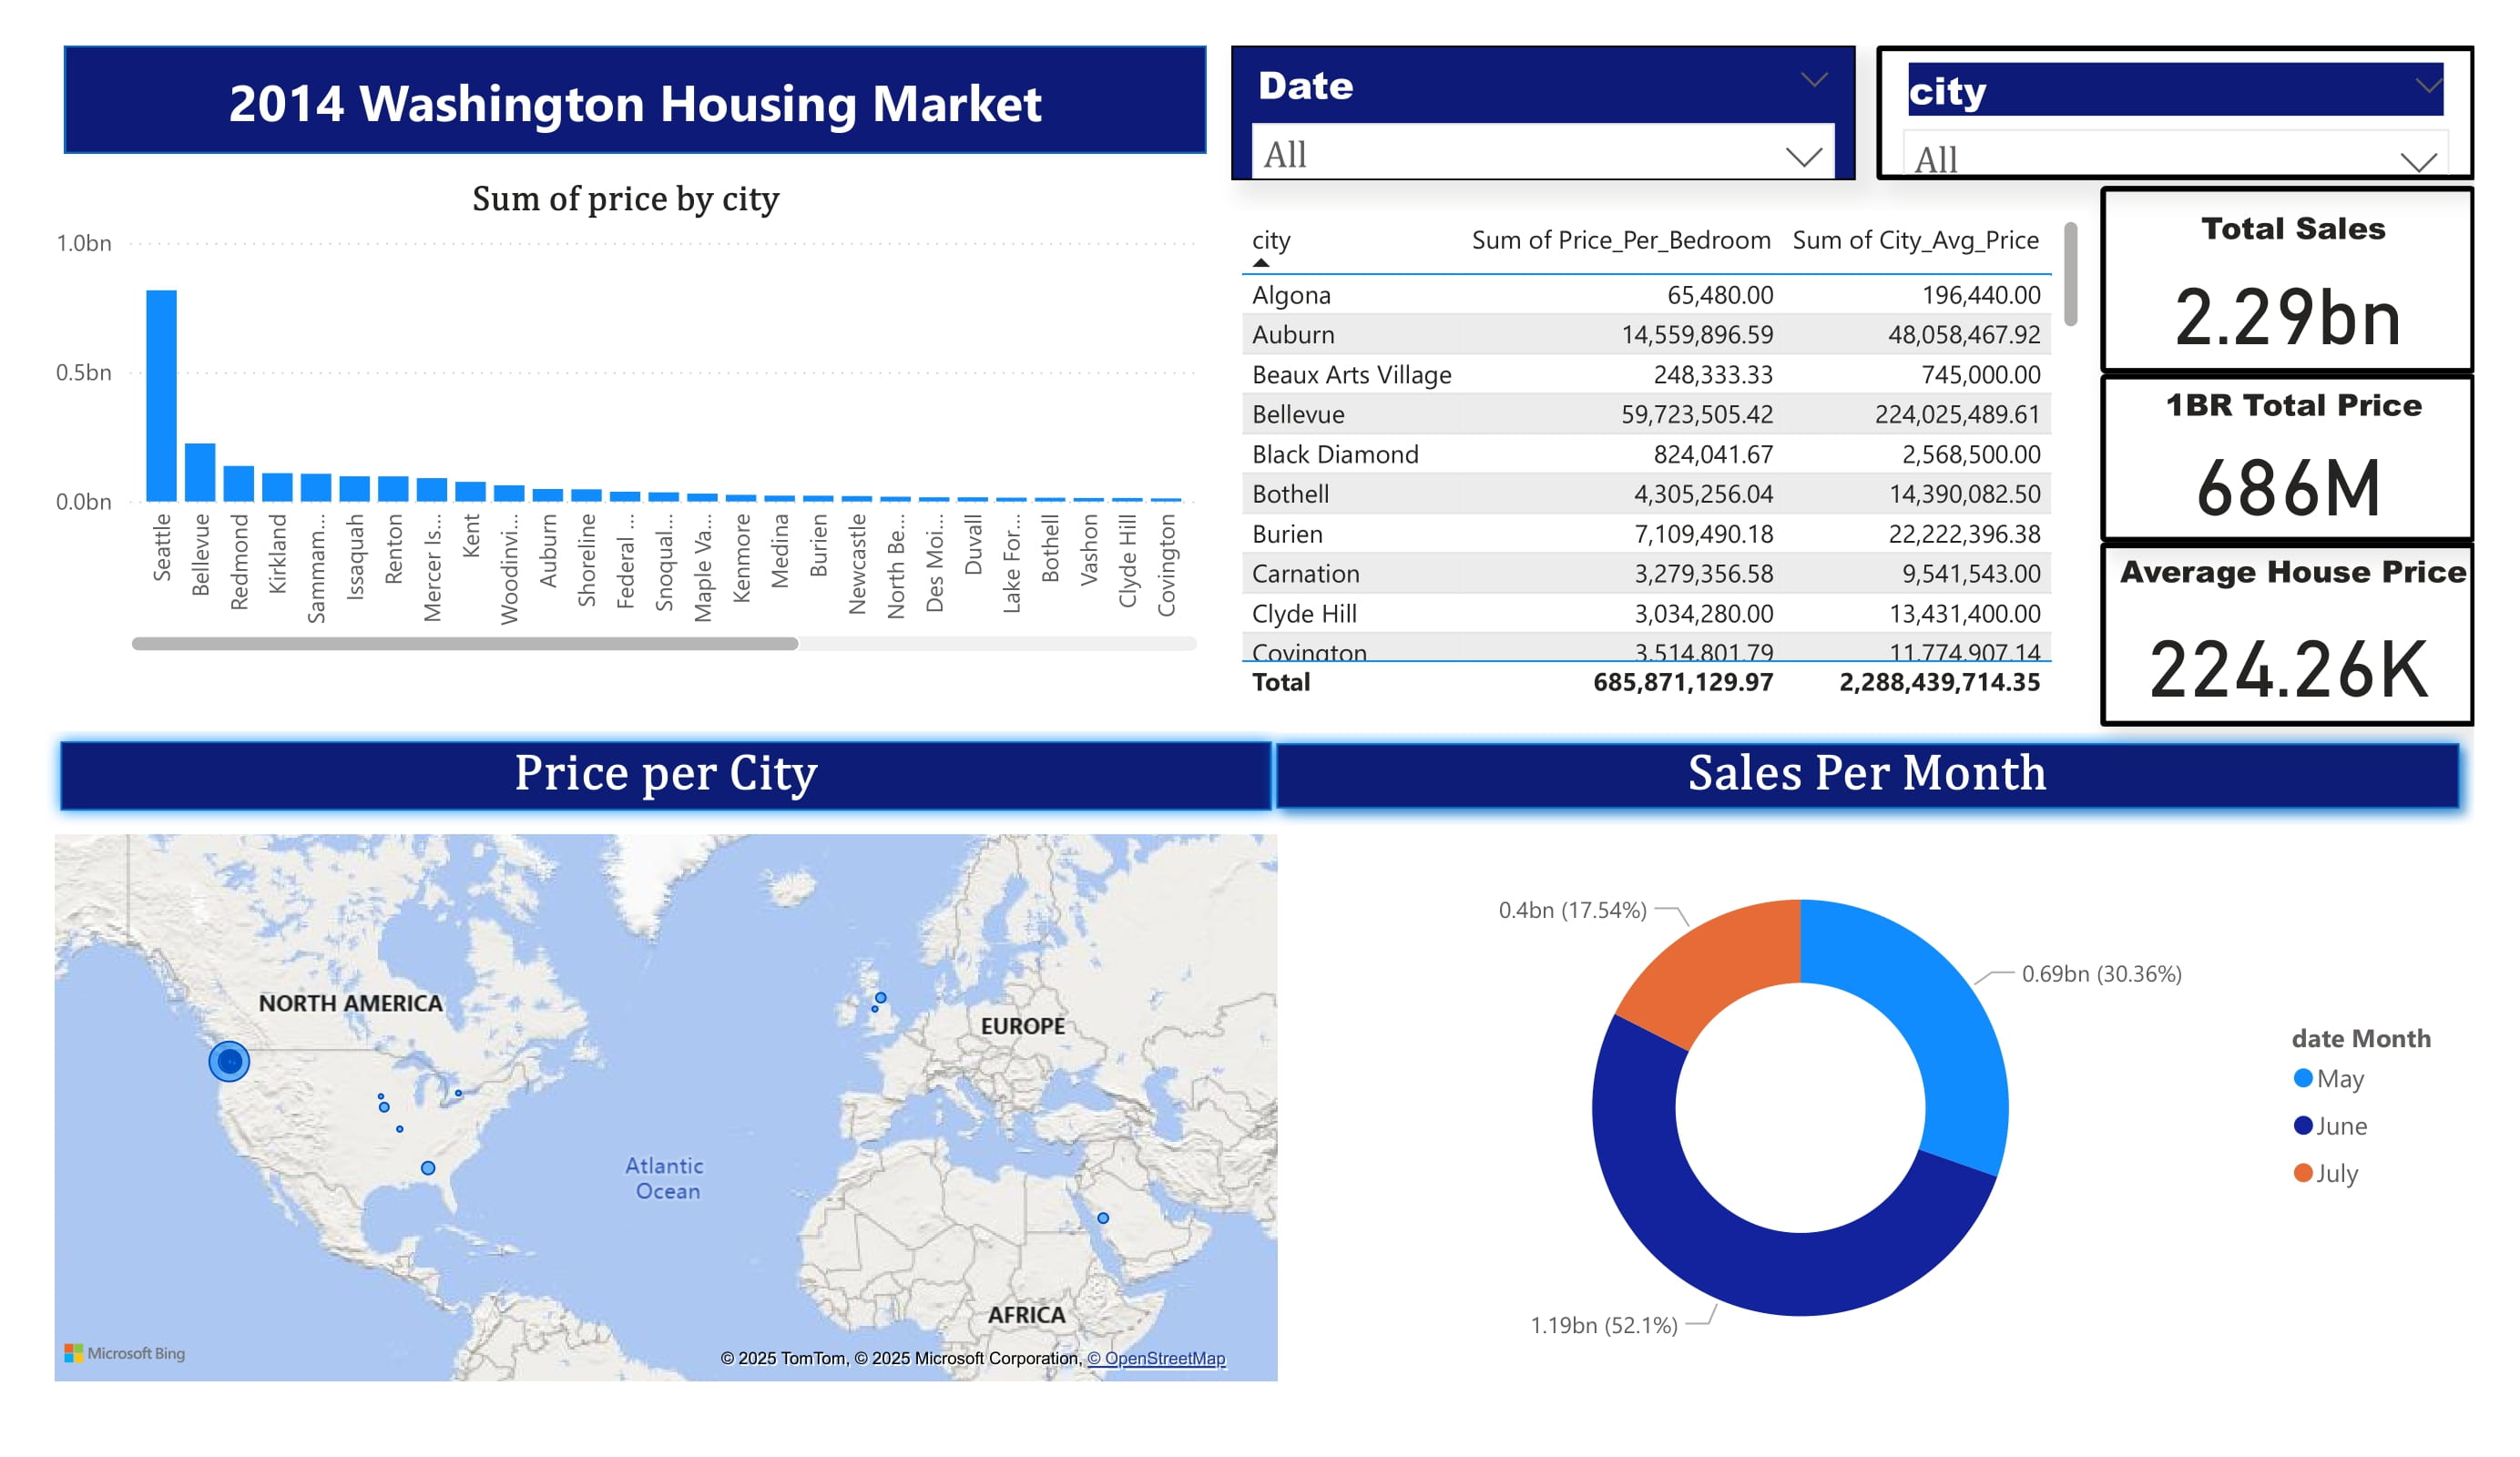

The dashboard page shown, as its layout file describes it:
{"tool":"powerbi","page":{"name":"Page 1","canvas":[1280,720],"ordinal":0},"visuals":[{"type":"shape","box":[9.7,0,602.4,56.7],"z":0},{"type":"shape","box":[0,359.5,654.2,51.8],"z":1000},{"type":"shape","box":[639.6,359.5,641.2,51.8],"z":2000},{"type":"card","title":"Total Sales","fields":{"Values":["Sum(Query1.price)"]},"box":[1083.3,74.5,197.5,98.8],"z":3000},{"type":"card","title":"Average House Price","fields":{"Values":["Sum(Query1.Average_House_Price)"]},"box":[1083.3,262.3,197.5,97.2],"z":4000},{"type":"slicer","fields":{"Values":["Query1.date"]},"box":[625,0,328.7,71.2],"z":5000},{"type":"card","title":"1BR Total Price","fields":{"Values":["Sum(Query1.Price_Per_Bedroom)"]},"box":[1083.3,173.3,197.5,89.1],"z":6000},{"type":"slicer","fields":{"Values":["Query1.city"]},"box":[965.1,0,315.7,71.2],"z":7000},{"type":"map","fields":{"Category":["Query1.city"],"Size":["Sum(Query1.City_Avg_Price)"]},"box":[0,411.3,654.2,297.9],"z":8000},{"type":"donutChart","fields":{"Category":["Query1.date.Variation.Date Hierarchy.Month"],"Y":["Sum(Query1.price)"]},"box":[660.6,411.3,620.2,297.9],"z":9000},{"type":"columnChart","fields":{"Category":["Query1.city"],"Y":["Sum(Query1.price)"]},"box":[0,71.2,612.1,252.6],"z":10000},{"type":"tableEx","fields":{"Values":["Query1.city","Sum(Query1.Price_Per_Bedroom)","Sum(Query1.City_Avg_Price)"]},"box":[625,87.4,451.8,262.3],"z":11000}]}

Visuals, with their boxes in screenshot pixels (x1, y1, x2, y2):
shape: box=[64, 46, 1207, 153]
shape: box=[46, 728, 1287, 826]
shape: box=[1260, 728, 2474, 826]
"Total Sales" card: box=[2101, 187, 2474, 374]
"Average House Price" card: box=[2101, 543, 2474, 728]
slicer - Query1.date: box=[1231, 46, 1855, 180]
"1BR Total Price" card: box=[2101, 374, 2474, 544]
slicer - Query1.city: box=[1877, 46, 2474, 180]
map - Query1.city x Sum(Query1.City_Avg_Price): box=[46, 826, 1287, 1391]
donutChart - Query1.date.Variation.Date Hierarchy.Month x Sum(Query1.price): box=[1299, 826, 2474, 1391]
columnChart - Query1.city x Sum(Query1.price): box=[46, 180, 1207, 660]
tableEx - Query1.city x Sum(Query1.Price_Per_Bedroom): box=[1231, 211, 2089, 709]
